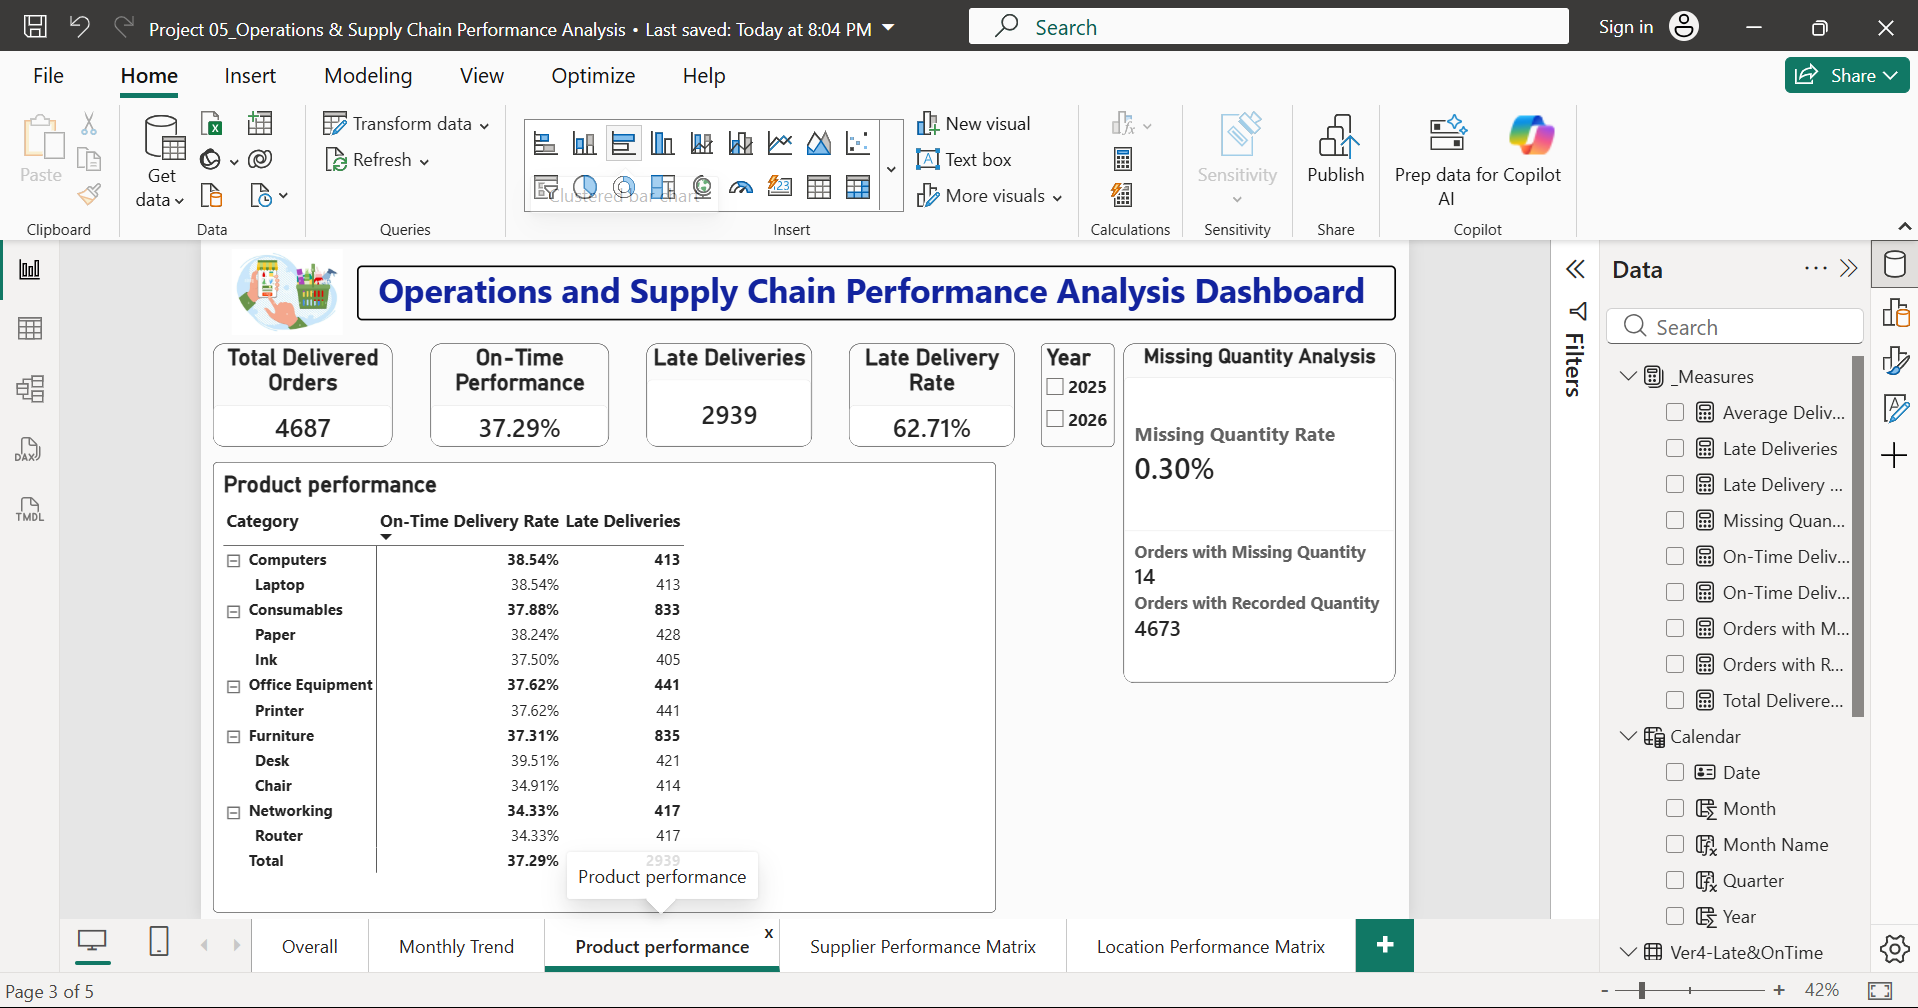

The page's visual inventory and layout, read from the dashboard file:
{"tool":"powerbi","page":{"name":"Product performance","canvas":[1920,1080],"ordinal":2},"visuals":[{"type":"cardVisual","title":"Total Delivered Orders","fields":{"Data":["_Measures.Total Delivered Orders"]},"box":[18.8,164.1,285.4,164.1],"z":0},{"type":"cardVisual","title":"On-Time Performance","fields":{"Data":["_Measures.On-Time Delivery Rate"]},"box":[364.1,164.6,283.7,164.1],"z":1000},{"type":"cardVisual","title":"Late Deliveries","fields":{"Data":["_Measures.Late Deliveries"]},"box":[707.7,164.6,263.2,164.1],"z":2000},{"type":"pivotTable","title":"Product performance","fields":{"Rows":["Ver4-Late&OnTime.Category","Ver4-Late&OnTime.Product"],"Values":["_Measures.On-Time Delivery Rate","_Measures.Late Deliveries"]},"box":[18.2,352.4,1245.6,717],"z":4000},{"type":"cardVisual","title":"Missing Quantity Analysis","fields":{"Data":["_Measures.Missing Quantity Rate"]},"box":[1467.9,164.1,432.3,540],"z":7000},{"type":"slicer","fields":{"Values":["Calendar.Year"]},"box":[1336.1,164.6,116.9,164.6],"z":8000},{"type":"textbox","box":[247.8,41,1652.5,87.2],"z":9000},{"type":"image","box":[25.6,13.7,222.2,136.7],"z":10000},{"type":"cardVisual","title":"Late Delivery Rate","fields":{"Data":["_Measures.Late Delivery Rate"]},"box":[1030.7,164.6,263.2,164.1],"z":11000}]}

Visuals, with their boxes on the page's 1920x1080 design canvas (x1, y1, x2, y2). These are canvas units, not pixel positions in the 1918x1008 screenshot, which may show the page scaled, cropped or inside an application window:
"Total Delivered Orders" cardVisual: bbox(19, 164, 304, 328)
"On-Time Performance" cardVisual: bbox(364, 165, 648, 329)
"Late Deliveries" cardVisual: bbox(708, 165, 971, 329)
"Product performance" pivotTable: bbox(18, 352, 1264, 1069)
"Missing Quantity Analysis" cardVisual: bbox(1468, 164, 1900, 704)
slicer - Calendar.Year: bbox(1336, 165, 1453, 329)
textbox: bbox(248, 41, 1900, 128)
image: bbox(26, 14, 248, 150)
"Late Delivery Rate" cardVisual: bbox(1031, 165, 1294, 329)
